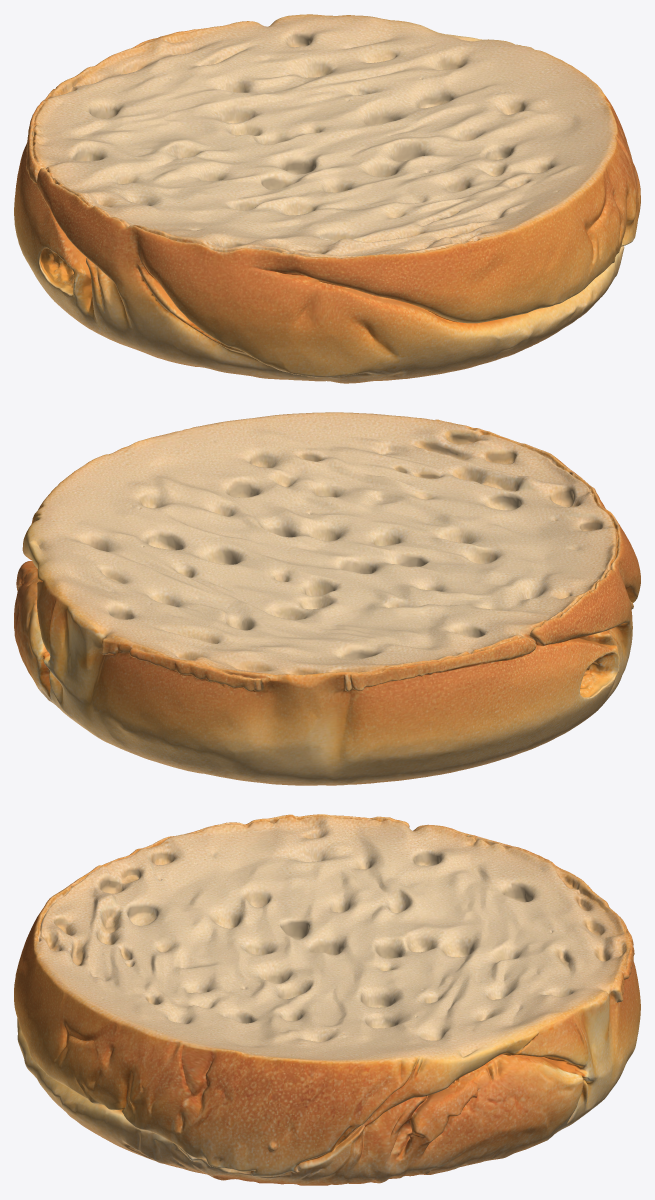
File: bottom.glb
The picture shows the model from 3 angles, top to bottom: view 1: azimuth 30°, elevation 25°; view 2: azimuth 150°, elevation 25°; view 3: azimuth 270°, elevation 25°; orthographic projection.
Visible parts, largest first — view 1: tripo_node_f09f63f9-9b61-456e-b2f3-0e121339b89c; view 2: tripo_node_f09f63f9-9b61-456e-b2f3-0e121339b89c; view 3: tripo_node_f09f63f9-9b61-456e-b2f3-0e121339b89c.
Boxes of the visible parts, <box> form: tripo_node_f09f63f9-9b61-456e-b2f3-0e121339b89c: <box>14,14,640,383</box>; tripo_node_f09f63f9-9b61-456e-b2f3-0e121339b89c: <box>14,412,640,785</box>; tripo_node_f09f63f9-9b61-456e-b2f3-0e121339b89c: <box>14,814,640,1185</box>.
Bounding box in the file's own units: 0.9952 × 0.2513 × 1.
1 material, 1 textured.
